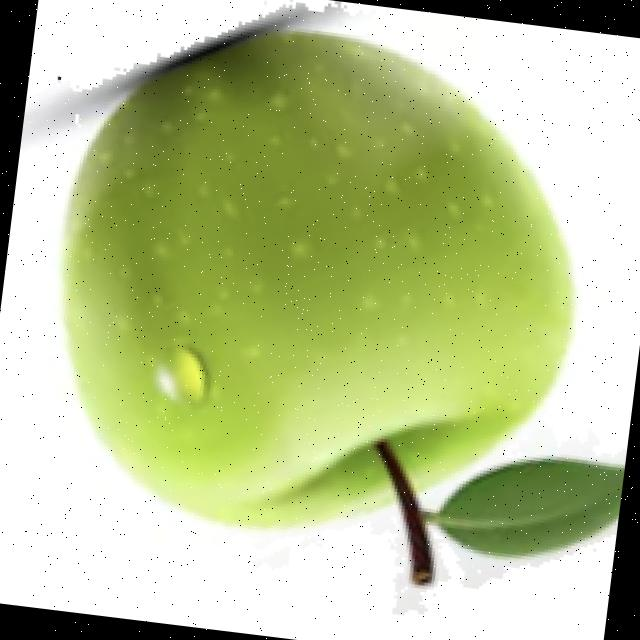apple: (22, 0, 627, 617)
